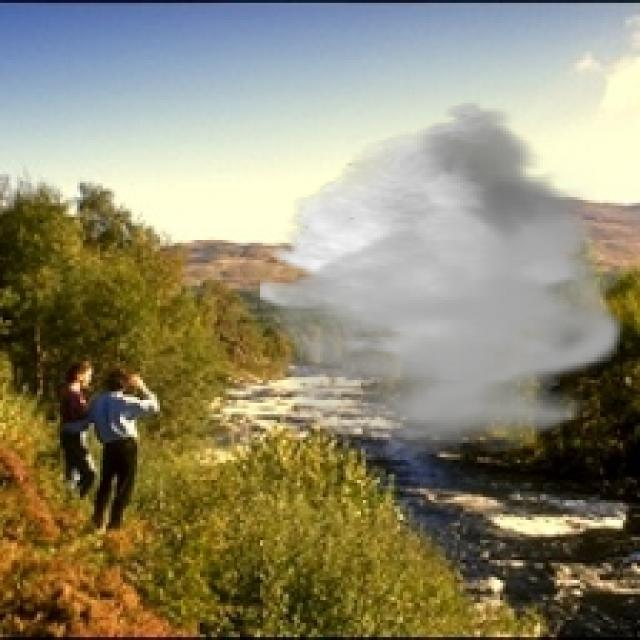smoke: (260, 100, 629, 457)
